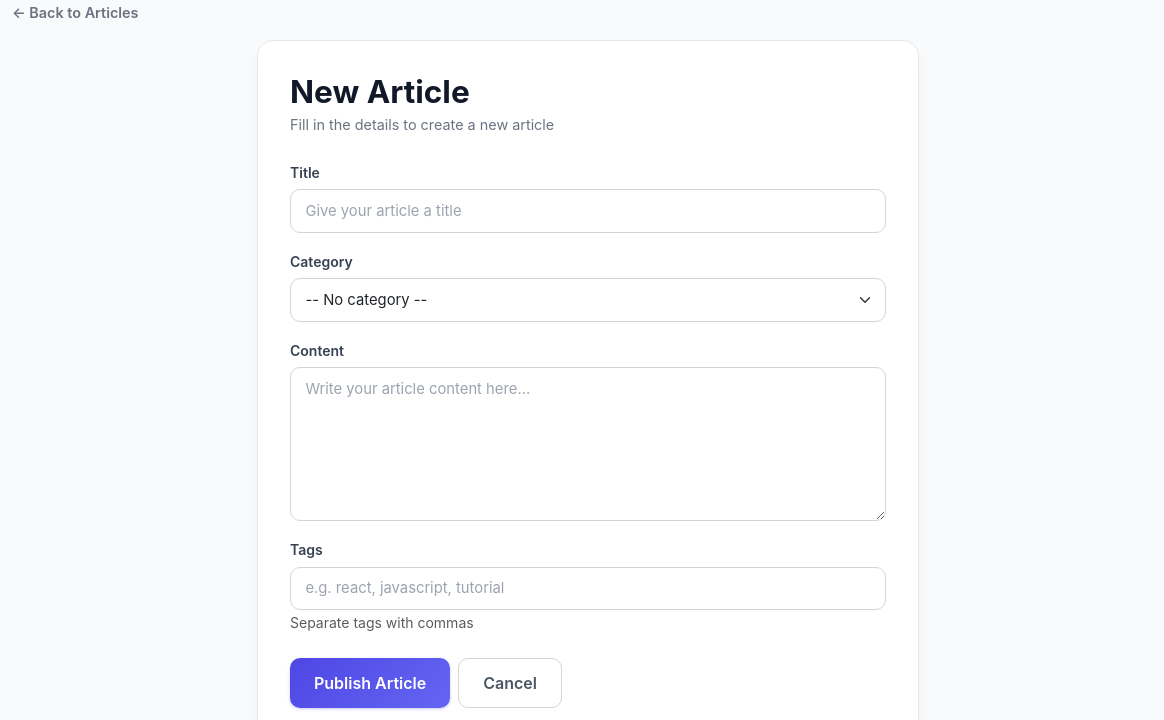
Test: ArticleFormPage › shows error on failed create
This screenshot has width=1164, height=720.
In the field labelled "Title": (588, 211) [290,190,886,233], type "x"
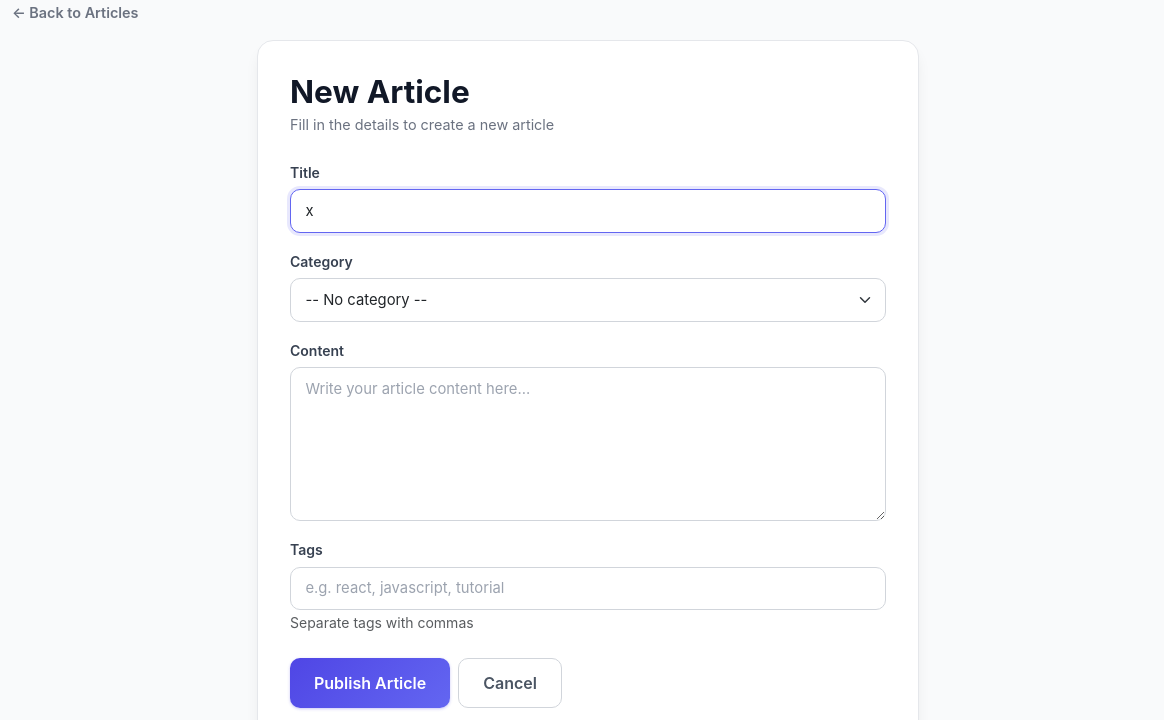
Click the button "Publish Article": (370, 683) [290,658,450,708]
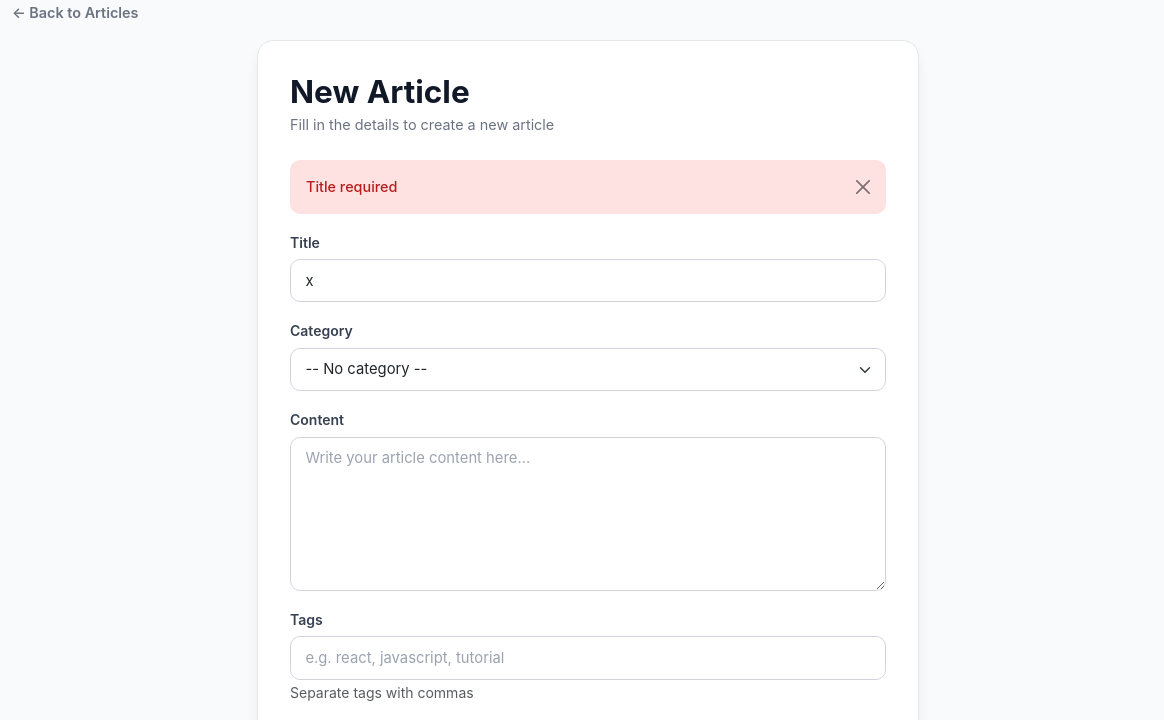
expect the text "Title required" is shown: met, box [290,160,886,214]
